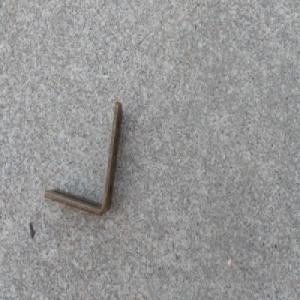MetalPart: (43, 98, 124, 216)
